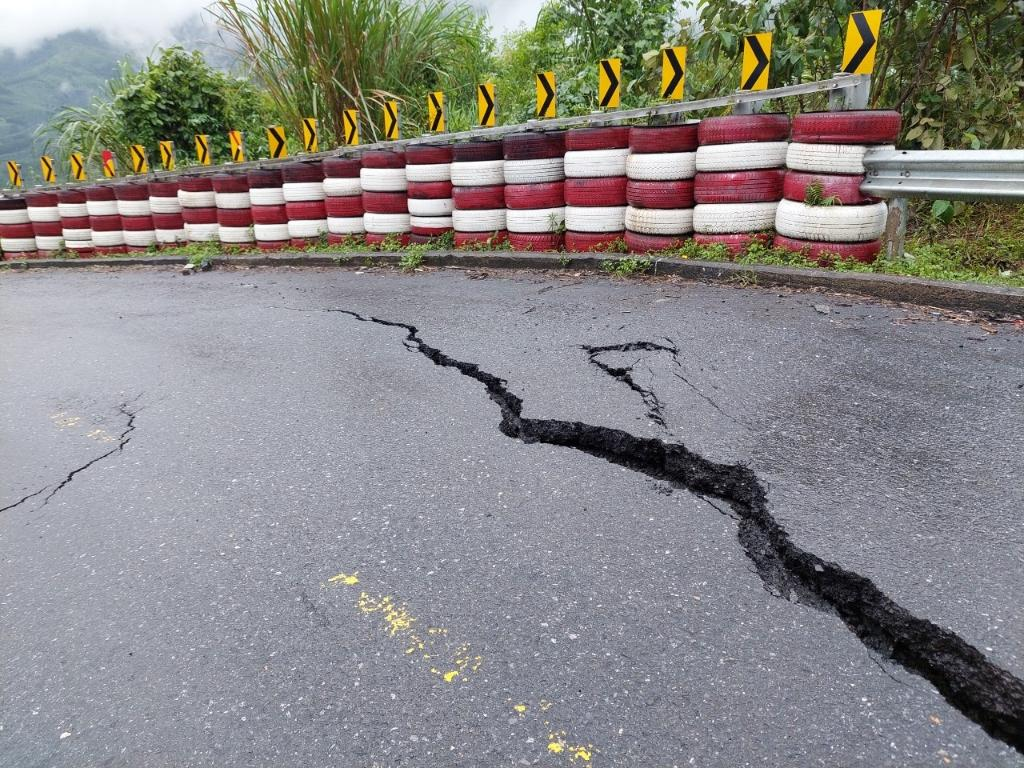ROAD_CRACK: (344, 390, 1024, 768), (29, 140, 909, 345)
